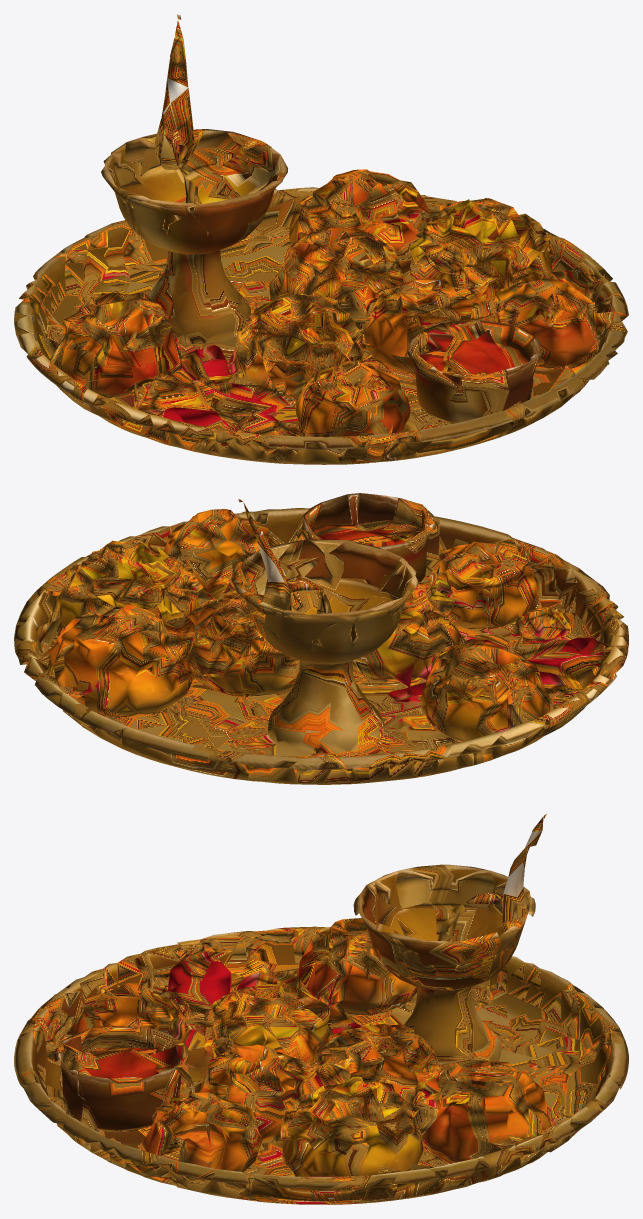
Rendered from thali.glb.
3 renders of one model, top to bottom at view 1: azimuth 30°, elevation 25°; view 2: azimuth 150°, elevation 25°; view 3: azimuth 270°, elevation 25°, orthographic.
Visible parts, largest first — view 1: tripo_node_5bdf68ae-a918-4b45-a25b-6c27e0ecdd54; view 2: tripo_node_5bdf68ae-a918-4b45-a25b-6c27e0ecdd54; view 3: tripo_node_5bdf68ae-a918-4b45-a25b-6c27e0ecdd54.
Part boxes in pixels (left/top/right/bottom): tripo_node_5bdf68ae-a918-4b45-a25b-6c27e0ecdd54: left=14, top=14, right=628, bottom=464; tripo_node_5bdf68ae-a918-4b45-a25b-6c27e0ecdd54: left=14, top=493, right=628, bottom=784; tripo_node_5bdf68ae-a918-4b45-a25b-6c27e0ecdd54: left=14, top=814, right=628, bottom=1204.
Size of the model in its own units: 0.9793 by 0.4669 by 0.9792.
Materials: 1 (1 with a texture image).
